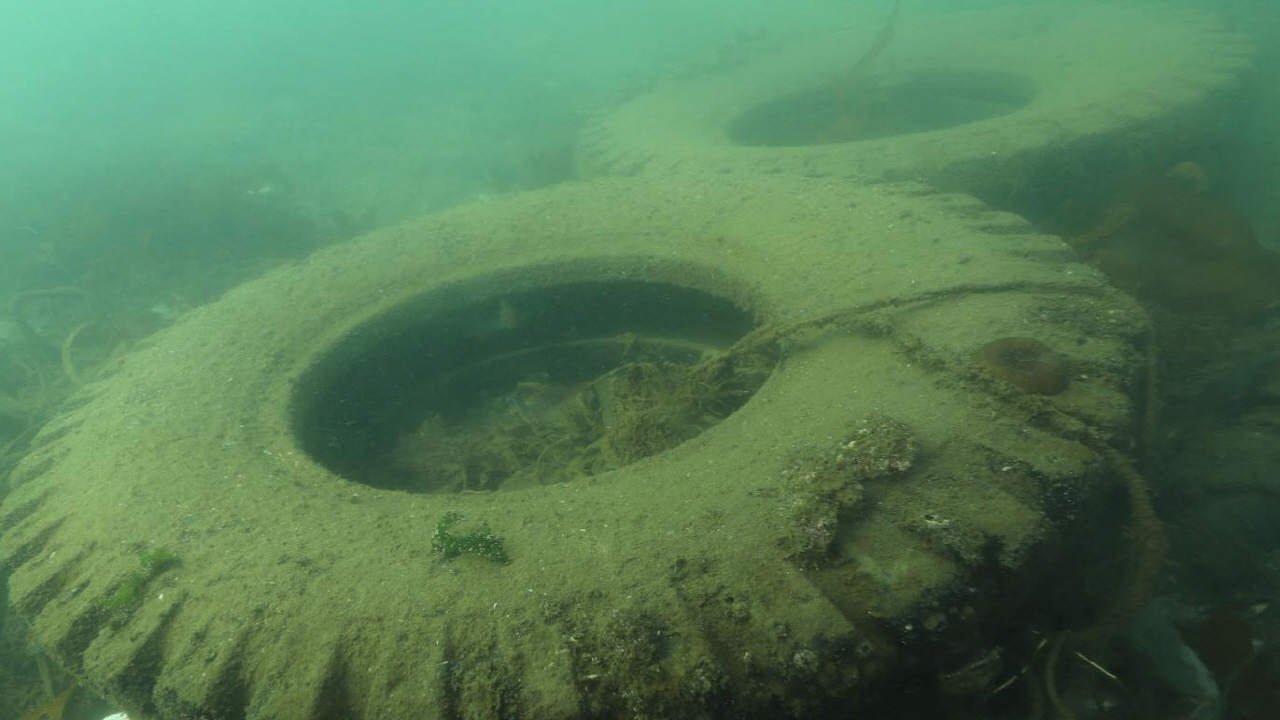bundle of ropes: (681, 272, 1147, 654)
tire: (0, 165, 1147, 720), (572, 16, 1268, 224)
